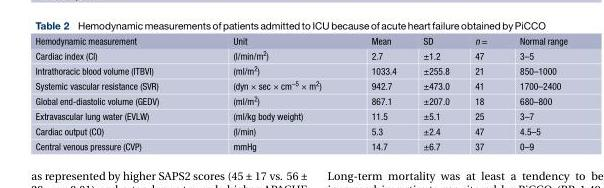table: (34, 34, 566, 151)
table column: (34, 34, 195, 151), (195, 34, 345, 151), (345, 34, 409, 151), (502, 34, 566, 151), (409, 34, 461, 151), (461, 34, 502, 151)
table column header: (34, 34, 566, 47)
table row: (34, 92, 566, 108), (34, 47, 566, 62), (34, 62, 566, 77), (34, 77, 566, 92), (34, 108, 566, 123), (34, 123, 566, 138), (34, 34, 566, 47), (34, 138, 566, 151)
